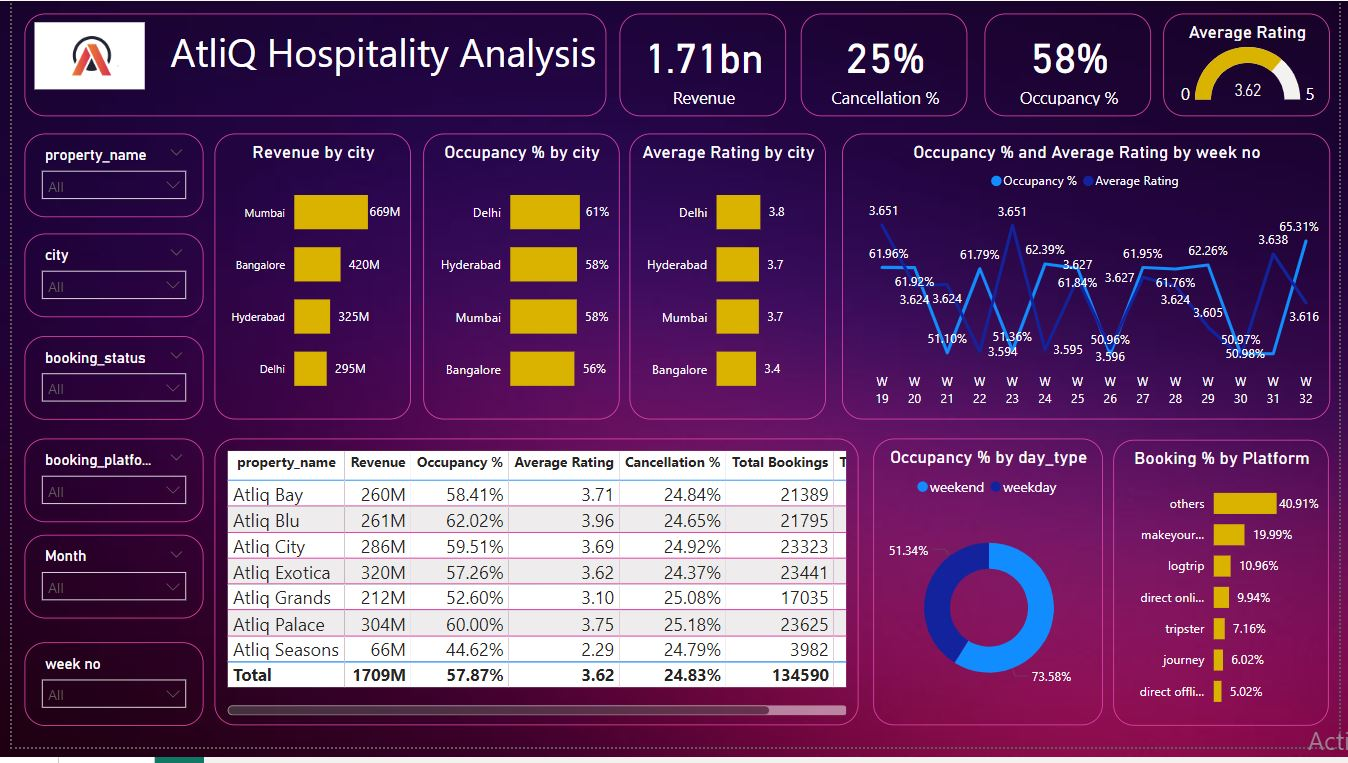

Layout of this report page (visuals, bound fields, positions):
{"tool":"powerbi","page":{"name":"Page 1","canvas":[1280,720],"ordinal":0},"visuals":[{"type":"textbox","box":[11.5,11.5,561.9,99.2],"z":0},{"type":"image","box":[21.6,20.1,106.3,64.7],"z":1000},{"type":"slicer","fields":{"Values":["dim_hotels.property_name"]},"box":[11.5,127.9,172.5,81],"z":2000,"group":"g1"},{"type":"group","id":"g1","title":"Group 1","box":[11.5,127.9,172.5,572],"z":2000},{"type":"card","fields":{"Values":["fact_bookings.Revenue"]},"box":[586.3,11.5,161,99.2],"z":3000},{"type":"slicer","fields":{"Values":["dim_hotels.city"]},"box":[11.5,224.7,172.5,81],"z":3000,"group":"g1"},{"type":"card","fields":{"Values":["fact_aggregated_bookings.Occupancy %"]},"box":[938.4,11.5,161,99.2],"z":4000},{"type":"slicer","fields":{"Values":["fact_bookings.booking_status"]},"box":[11.5,323.3,172.5,81],"z":4000,"group":"g1"},{"type":"gauge","fields":{"Y":["fact_bookings.Average Rating"]},"box":[1110.9,11.5,161,99.2],"z":5000},{"type":"slicer","fields":{"Values":["fact_bookings.booking_platform"]},"box":[11.5,421.8,172.5,81],"z":5000,"group":"g1"},{"type":"clusteredBarChart","fields":{"Category":["dim_hotels.city"],"Y":["fact_bookings.Revenue"]},"box":[195.4,127.9,189.7,275.9],"z":6000},{"type":"slicer","fields":{"Values":["dim_date.date.Variation.Date Hierarchy.Month"]},"box":[11.5,515.1,172.5,81],"z":6000,"group":"g1"},{"type":"clusteredBarChart","fields":{"Category":["dim_hotels.city"],"Y":["fact_aggregated_bookings.Occupancy %"]},"box":[396.6,127.9,189.7,275.9],"z":7000},{"type":"slicer","fields":{"Values":["dim_date.week no"]},"box":[11.5,618.9,172.5,81],"z":7000,"group":"g1"},{"type":"clusteredBarChart","fields":{"Category":["dim_hotels.city"],"Y":["fact_bookings.Average Rating"]},"box":[596.4,127.9,189.7,275.9],"z":8000},{"type":"lineChart","fields":{"Category":["dim_date.week no"],"Y":["fact_aggregated_bookings.Occupancy %"],"Y2":["fact_bookings.Average Rating"]},"box":[800.5,127.9,471.4,275.9],"z":9000},{"type":"tableEx","fields":{"Values":["dim_hotels.property_name","fact_bookings.Revenue","fact_aggregated_bookings.Occupancy %","fact_bookings.Average Rating","fact_bookings.Cancellation %","fact_bookings.Total Bookings","fact_aggregated_bookings.Total Capacity"]},"box":[195.7,422.9,621.4,277.1],"z":10000},{"type":"card","fields":{"Values":["fact_bookings.Cancellation %"]},"box":[761.7,11.5,161,99.2],"z":11000},{"type":"donutChart","fields":{"Y":["fact_aggregated_bookings.Occupancy %"],"Category":["dim_date.day_type"]},"box":[831.4,422.9,221.4,277.1],"z":12000},{"type":"clusteredBarChart","title":"Booking % by Platform","fields":{"Category":["fact_bookings.booking_platform"],"Y":["fact_bookings.Booking % by Platform"]},"box":[1063.5,424,208.4,275.9],"z":13000}]}

Visuals, with their boxes in screenshot pixels (x1, y1, x2, y2), scaled from the page's 1280x720 canvas onto the 1348x763 screenshot:
textbox: [12,12,604,117]
image: [23,21,135,90]
slicer - dim_hotels.property_name: [12,136,194,221]
"Group 1" group: [12,136,194,742]
card - fact_bookings.Revenue: [617,12,787,117]
slicer - dim_hotels.city: [12,238,194,324]
card - fact_aggregated_bookings.Occupancy %: [988,12,1158,117]
slicer - fact_bookings.booking_status: [12,343,194,428]
gauge - fact_bookings.Average Rating: [1170,12,1339,117]
slicer - fact_bookings.booking_platform: [12,447,194,533]
clusteredBarChart - dim_hotels.city x fact_bookings.Revenue: [206,136,406,428]
slicer - dim_date.date.Variation.Date Hierarchy.Month: [12,546,194,632]
clusteredBarChart - dim_hotels.city x fact_aggregated_bookings.Occupancy %: [418,136,617,428]
slicer - dim_date.week no: [12,656,194,742]
clusteredBarChart - dim_hotels.city x fact_bookings.Average Rating: [628,136,828,428]
lineChart - dim_date.week no x fact_aggregated_bookings.Occupancy %: [843,136,1339,428]
tableEx - dim_hotels.property_name x fact_bookings.Revenue: [206,448,861,742]
card - fact_bookings.Cancellation %: [802,12,972,117]
donutChart - fact_aggregated_bookings.Occupancy % x dim_date.day_type: [876,448,1109,742]
"Booking % by Platform" clusteredBarChart: [1120,449,1339,742]
